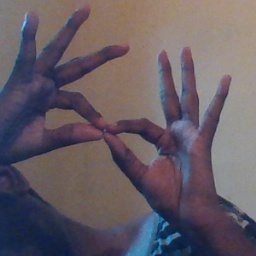B: (20, 64, 178, 185)
